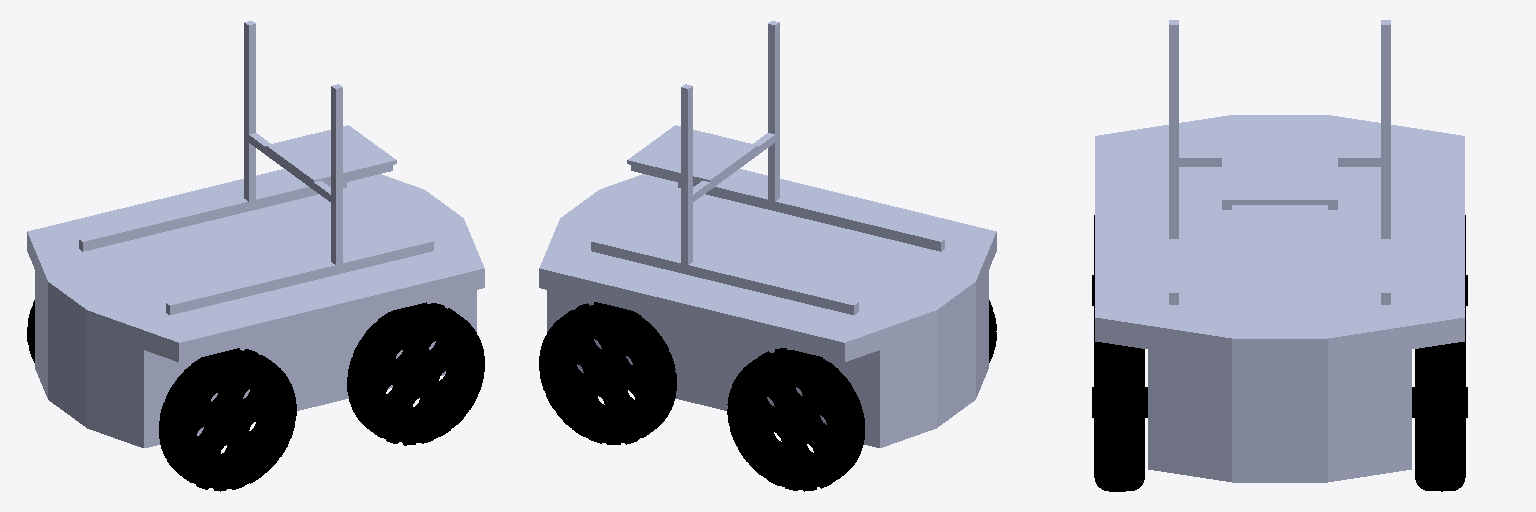
URDF robot description (zzx_run_robot):
<?xml version="1.0" encoding="utf-8"?>
<!-- =================================================================================== -->
<!-- |    This document was autogenerated by xacro from zzx_run_robot.urdf.xacro       | -->
<!-- |    EDITING THIS FILE BY HAND IS NOT RECOMMENDED                                 | -->
<!-- =================================================================================== -->
<!-- This xacro was created by ZZX-->
<robot name="zzx_run_robot" xmlns:controller="http://playerstage.sourceforge.net/gazebo/xmlschema/#controller" xmlns:interface="http://playerstage.sourceforge.net/gazebo/xmlschema/#interface" xmlns:sensor="http://playerstage.sourceforge.net/gazebo/xmlschema/#sensor">
  <!--base_link-->
  <link name="base_link">
    <inertial>
      <origin rpy="0 0 0" xyz="0.00741047992278929 -0.00341114189657439 0.114186284669122"/>
      <mass value="3.96236436148786"/>
      <inertia ixx="0.178506185725259" ixy="0.000108304306880873" ixz="0.000169549055394087" iyy="0.404759631587269" iyz="1.00448230235288E-06" izz="0.561130623679876"/>
    </inertial>
    <visual>
      <origin rpy="0 0 0" xyz="0 0 0"/>
      <geometry>
        <mesh filename="package://zzx_run_description/meshes/base_link.STL"/>
      </geometry>
      <material name="">
        <color rgba="0.792156862745098 0.819607843137255 0.933333333333333 1"/>
      </material>
    </visual>
    <collision>
      <origin rpy="0 0 0" xyz="0 0 0"/>
      <geometry>
        <mesh filename="package://zzx_run_description/meshes/base_link.STL"/>
      </geometry>
    </collision>
  </link>
  <!--base_footprint-->
  <link name="base_footprint">
    <visual>
      <origin rpy="0 0 0" xyz="0 0 0"/>
      <geometry>
        <box size="0.001 0.001 0.001"/>
      </geometry>
    </visual>
  </link>
  <joint name="base_footprint_joint" type="fixed">
    <origin rpy="0 0 0" xyz="0 0 0.06746"/>
    <parent link="base_footprint"/>
    <child link="base_link"/>
  </joint>
  <!--left_front_wheel_link-->
  <link name="left_front_wheel_link">
    <inertial>
      <origin rpy="0 0 0" xyz="-4.78387528979329E-07 0.0527999229567212 -1.21519264034697E-06"/>
      <mass value="5.58816289074736"/>
      <inertia ixx="0.0467264175417539" ixy="4.21922638423182E-10" ixz="4.31360254637763E-10" iyy="0.0872654610518181" iyz="5.11812738578019E-11" izz="0.0467264187453853"/>
    </inertial>
    <visual>
      <origin rpy="0 0 0" xyz="0 0 0"/>
      <geometry>
        <mesh filename="package://zzx_run_description/meshes/left_front_wheel_link.dae"/>
      </geometry>
      <material name="">
        <color rgba="0.0 0.0 0.0 1.0"/>
      </material>
    </visual>
    <collision>
      <origin rpy="0 0 0" xyz="0 0 0"/>
      <geometry>
        <mesh filename="package://zzx_run_description/meshes/left_front_wheel_link.dae"/>
      </geometry>
    </collision>
  </link>
  <!--left_front_wheel_link_joint-->
  <joint name="left_front_wheel_link_joint" type="continuous">
    <origin rpy="0 0 0" xyz="0.25 0.25 0.05"/>
    <parent link="base_link"/>
    <child link="left_front_wheel_link"/>
    <axis xyz="0 1 0"/>
  </joint>
  <!--left_behind_wheel_link-->
  <link name="left_behind_wheel_link">
    <inertial>
      <origin rpy="0 0 0" xyz="1.31378196099874E-07 0.0527999220844182 -1.30022679351027E-06"/>
      <mass value="5.58816261475792"/>
      <inertia ixx="0.0467264178495617" ixy="-1.48432408253074E-10" ixz="3.45934344448938E-11" iyy="0.0872654610290871" iyz="5.288073487882E-10" izz="0.0467264184119642"/>
    </inertial>
    <visual>
      <origin rpy="0 0 0" xyz="0 0 0"/>
      <geometry>
        <mesh filename="package://zzx_run_description/meshes/left_behind_wheel_link.dae"/>
      </geometry>
      <material name="">
        <color rgba="0.0 0.0 0.0 1.0"/>
      </material>
    </visual>
    <collision>
      <origin rpy="0 0 0" xyz="0 0 0"/>
      <geometry>
        <mesh filename="package://zzx_run_description/meshes/left_behind_wheel_link.dae"/>
      </geometry>
    </collision>
  </link>
  <!--left_behind_wheel_link_joint-->
  <joint name="left_behind_wheel_link_joint" type="continuous">
    <origin rpy="0 0 0" xyz="-0.25 0.25 0.05"/>
    <parent link="base_link"/>
    <child link="left_behind_wheel_link"/>
    <axis xyz="0 1 0"/>
  </joint>
  <!--right_front_wheel_link-->
  <link name="right_front_wheel_link">
    <inertial>
      <origin rpy="0 0 0" xyz="1.23487383696386E-06 -0.052800077037773 4.18657537137879E-07"/>
      <mass value="5.58816289283226"/>
      <inertia ixx="0.0467264183997509" ixy="-4.77846900738126E-10" ixz="9.0196657416584E-11" iyy="0.0872654610291803" iyz="-2.63885619866361E-10" izz="0.0467264178624116"/>
    </inertial>
    <visual>
      <origin rpy="0 0 0" xyz="0 0 0"/>
      <geometry>
        <mesh filename="package://zzx_run_description/meshes/right_front_wheel_link.dae"/>
      </geometry>
      <material name="">
        <color rgba="0.0 0.0 0.0 1.0"/>
      </material>
    </visual>
    <collision>
      <origin rpy="0 0 0" xyz="0 0 0"/>
      <geometry>
        <mesh filename="package://zzx_run_description/meshes/right_front_wheel_link.dae"/>
      </geometry>
    </collision>
  </link>
  <!--right_front_wheel_link_joint-->
  <joint name="right_front_wheel_link_joint" type="continuous">
    <origin rpy="0 0 0" xyz="0.25 -0.25 0.05"/>
    <parent link="base_link"/>
    <child link="right_front_wheel_link"/>
    <axis xyz="0 1 0"/>
  </joint>
  <!--right_behind_wheel_link-->
  <link name="right_behind_wheel_link">
    <inertial>
      <origin rpy="0 0 0" xyz="-1.17487549072814E-06 -0.0528000779026511 5.64813343303938E-07"/>
      <mass value="5.58816261843466"/>
      <inertia ixx="0.0467264186791865" ixy="2.30502475654598E-11" ixz="-5.12433901318596E-10" iyy="0.0872654610531356" iyz="-4.26967668323502E-10" izz="0.0467264176094793"/>
    </inertial>
    <visual>
      <origin rpy="0 0 0" xyz="0 0 0"/>
      <geometry>
        <mesh filename="package://zzx_run_description/meshes/right_behind_wheel_link.dae"/>
      </geometry>
      <material name="">
        <color rgba="0.0 0.0 0.0 1.0"/>
      </material>
    </visual>
    <collision>
      <origin rpy="0 0 0" xyz="0 0 0"/>
      <geometry>
        <mesh filename="package://zzx_run_description/meshes/right_behind_wheel_link.dae"/>
      </geometry>
    </collision>
  </link>
  <!--right_behind_wheel_link_joint-->
  <joint name="right_behind_wheel_link_joint" type="continuous">
    <origin rpy="0 0 0" xyz="-0.25 -0.25 0.05"/>
    <parent link="base_link"/>
    <child link="right_behind_wheel_link"/>
    <axis xyz="0 1 0"/>
  </joint>
  <joint name="velodyne_base_mount_joint" type="fixed">
    <origin rpy="0 0 0" xyz="0.2 0 0.5"/>
    <parent link="base_link"/>
    <child link="velodyne_base_link"/>
  </joint>
  <link name="velodyne_base_link">
    <inertial>
      <mass value="0.01"/>
      <origin xyz="0 0 0.03585"/>
      <inertia ixx="1.0940475e-05" ixy="0" ixz="0" iyy="1.0940475e-05" iyz="0" izz="1.33128e-05"/>
    </inertial>
    <visual>
      <geometry>
        <mesh filename="package://velodyne_description/meshes/VLP16_base_1.dae"/>
      </geometry>
    </visual>
    <visual>
      <geometry>
        <mesh filename="package://velodyne_description/meshes/VLP16_base_2.dae"/>
      </geometry>
    </visual>
    <collision>
      <origin rpy="0 0 0" xyz="0 0 0.03585"/>
      <geometry>
        <cylinder length="0.0717" radius="0.0516"/>
      </geometry>
    </collision>
  </link>
  <joint name="velodyne_base_scan_joint" type="fixed">
    <origin rpy="0 0 0" xyz="0 0 0.0377"/>
    <parent link="velodyne_base_link"/>
    <child link="velodyne"/>
  </joint>
  <link name="velodyne">
    <inertial>
      <mass value="0.01"/>
      <origin xyz="0 0 0"/>
      <inertia ixx="1e-7" ixy="0" ixz="0" iyy="1e-7" iyz="0" izz="1e-7"/>
    </inertial>
    <visual>
      <origin xyz="0 0 -0.0377"/>
      <geometry>
        <mesh filename="package://velodyne_description/meshes/VLP16_scan.dae"/>
      </geometry>
    </visual>
  </link>
  <!-- Gazebo requires the velodyne_gazebo_plugins package -->
  <gazebo reference="velodyne">
    <sensor name="velodyne-VLP16" type="ray">
      <pose>0 0 0 0 0 0</pose>
      <visualize>false</visualize>
      <update_rate>10</update_rate>
      <ray>
        <scan>
          <horizontal>
            <samples>901</samples>
            <resolution>0.2</resolution>
            <min_angle>-1.57</min_angle>
            <max_angle>1.57</max_angle>
          </horizontal>
          <vertical>
            <samples>32</samples>
            <resolution>1.33</resolution>
            <min_angle>-0.9599310885968828</min_angle>
            <max_angle> 0.261799387799</max_angle>
          </vertical>
        </scan>
        <range>
          <min>0.3</min>
          <max>10.0</max>
          <resolution>0.01</resolution>
        </range>
        <noise>
          <type>gaussian</type>
          <mean>0.0</mean>
          <stddev>0.0</stddev>
        </noise>
      </ray>
      <plugin filename="libgazebo_ros_velodyne_laser.so" name="gazebo_ros_laser_controller">
        <topicName>/velodyne_points</topicName>
        <frameName>velodyne</frameName>
        <min_range>0.3</min_range>
        <max_range>10.0</max_range>
        <gaussianNoise>0</gaussianNoise>
      </plugin>
    </sensor>
  </gazebo>
  <!--lidar_link-->
  <gazebo reference="lidar_link">
    <sensor name="rplidar" type="ray">
      <pose>0 0 0 0 0 0</pose>
      <visualize>false</visualize>
      <update_rate>5.5</update_rate>
      <ray>
        <scan>
          <horizontal>
            <samples>360</samples>
            <resolution>1</resolution>
            <min_angle>-3</min_angle>
            <max_angle>3</max_angle>
          </horizontal>
        </scan>
        <range>
          <min>0.10</min>
          <max>6.0</max>
          <resolution>0.01</resolution>
        </range>
        <noise>
          <type>gaussian</type>
          <mean>0.0</mean>
          <stddev>0.01</stddev>
        </noise>
      </ray>
      <plugin filename="libgazebo_ros_laser.so" name="gazebo_rplidar">
        <topicName>/scan</topicName>
        <frameName>lidar_link</frameName>
      </plugin>
    </sensor>
  </gazebo>
  <!-- Drive controller -->
  <gazebo>
    <plugin filename="libgazebo_ros_skid_steer_drive.so" name="skid_steer_drive_controller">
      <updateRate>100.0</updateRate>
      <robotNamespace/>
      <leftFrontJoint>left_front_wheel_link_joint</leftFrontJoint>
      <rightFrontJoint>right_front_wheel_link_joint</rightFrontJoint>
      <leftRearJoint>left_behind_wheel_link_joint</leftRearJoint>
      <rightRearJoint>right_behind_wheel_link_joint</rightRearJoint>
      <wheelSeparation>0.64</wheelSeparation>
      <wheelDiameter>0.33</wheelDiameter>
      <commandTopic>cmd_vel</commandTopic>
      <odometryTopic>odom</odometryTopic>
      <robotBaseFrame>base_footprint</robotBaseFrame>
      <odometryFrame>odom</odometryFrame>
      <torque>10000</torque>
      <topicName>cmd_vel</topicName>
      <broadcastTF>1</broadcastTF>
    </plugin>
  </gazebo>
  <!-- ros_control plugin -->
  <gazebo>
    <plugin filename="libgazebo_ros_control.so" name="gazebo_ros_control">
      <robotNamespace>/lzh_run_robot</robotNamespace>
      <legacyModeNS>true</legacyModeNS>
    </plugin>
  </gazebo>
  <!--friction-->
  <gazebo reference="left_front_wheel_link">
    <mu1>10000</mu1>
    <mu2>10000</mu2>
    <kp>10000000</kp>
    <kd>1</kd>
  </gazebo>
  <gazebo reference="left_behind_wheel_link">
    <mu1>10000</mu1>
    <mu2>10000</mu2>
    <kp>10000000</kp>
    <kd>1</kd>
  </gazebo>
  <gazebo reference="right_front_wheel_link">
    <mu1>10000</mu1>
    <mu2>10000</mu2>
    <kp>10000000</kp>
    <kd>1</kd>
  </gazebo>
  <gazebo reference="right_behind_wheel_link">
    <mu1>10000</mu1>
    <mu2>10000</mu2>
    <kp>10000000</kp>
    <kd>1</kd>
  </gazebo>
</robot>

--- What the picture shows (computed from the rendered views, not written in the file) ---
Views: 3 orthographic renders of the robot side by side, from view 1: azimuth 30°, elevation 25°; view 2: azimuth 150°, elevation 25°; view 3: azimuth 270°, elevation 25°.
Model zzx_run_robot with 8 links and 7 joints (4 continuous, 3 fixed), rooted at base_footprint, posed every joint at zero.
Visible links, largest first — view 1: base_link, right_front_wheel_link, right_behind_wheel_link; view 2: base_link, left_front_wheel_link, left_behind_wheel_link; view 3: base_link, right_front_wheel_link, left_front_wheel_link.
Boxes of the visible links, x1,y1,x2,y2 form: base_link: (27, 21, 484, 447); right_front_wheel_link: (347, 302, 484, 445); right_behind_wheel_link: (159, 348, 296, 491); base_link: (539, 21, 996, 447); left_front_wheel_link: (539, 302, 676, 444); left_behind_wheel_link: (727, 348, 864, 491); base_link: (1095, 20, 1464, 482); right_front_wheel_link: (1092, 327, 1147, 491); left_front_wheel_link: (1412, 327, 1467, 491).
Size in the robot's own frame: 1 by 0.7112 by 0.8898 metres.
Meshes: 8 distinct files referenced, 5 mesh visuals loaded (1 binary STL, 4 Collada DAE); not drawn: 3 (reference not matched to a file when rendering).
